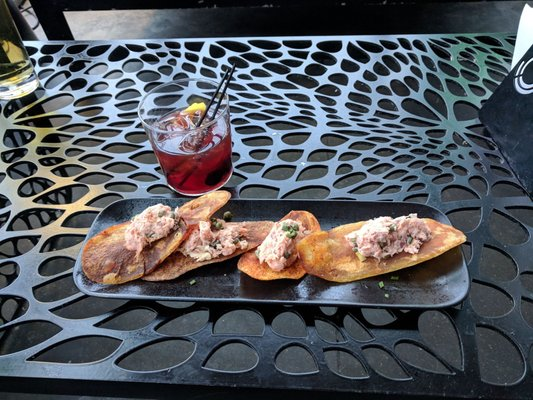pizza: (137, 84, 236, 196), (0, 0, 42, 107)
